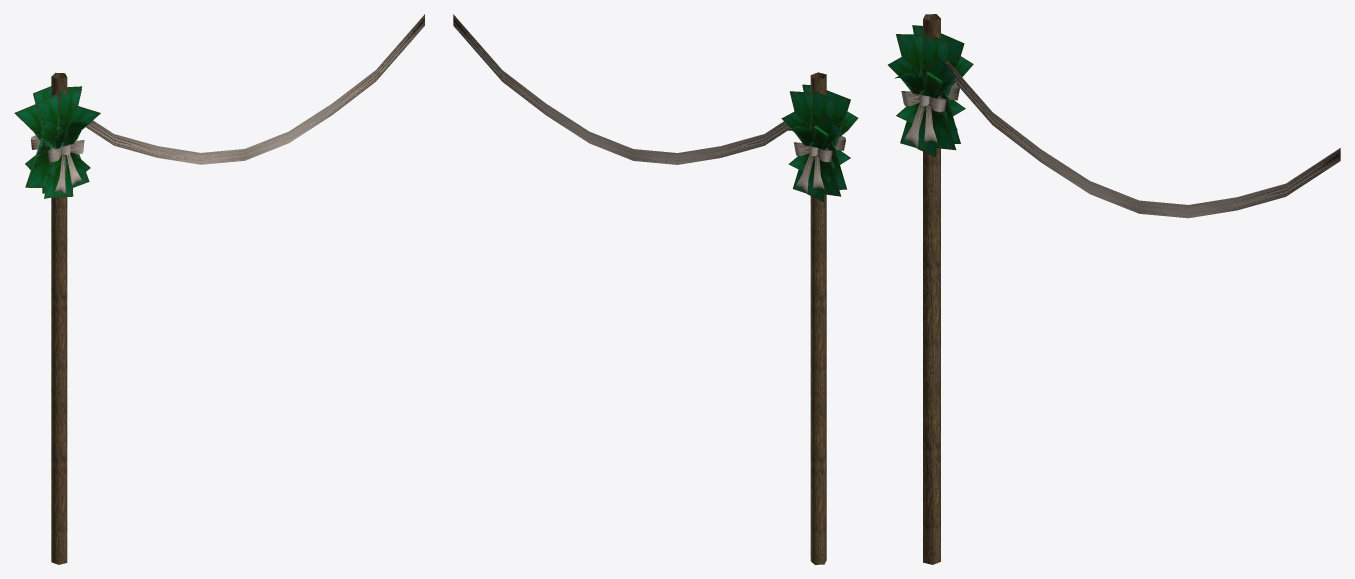
The model's file is pir_m_prp_hol_decopost_ribbon_winter09.fbx.
3 renders of one model, left to right at view 1: azimuth 30°, elevation 25°; view 2: azimuth 150°, elevation 25°; view 3: azimuth 330°, elevation 25°, orthographic. The views are drawn at different scales.
Visible parts, largest first — view 1: Post1, decoRibbon_winter08, leaf_11.001, leaf_03, leaf_02; view 2: Post1, decoRibbon_winter08, leaf_03.001, leaf_02.001, leaf_02; view 3: Post1, decoRibbon_winter08, leaf_03, leaf_02.
Part boxes in pixels (x1,y1,x2,y2): Post1: [51, 72, 67, 564]; decoRibbon_winter08: [86, 14, 424, 164]; leaf_11.001: [25, 137, 50, 187]; leaf_03: [57, 89, 81, 133]; leaf_02: [34, 94, 57, 148]; Post1: [810, 72, 826, 564]; decoRibbon_winter08: [453, 14, 790, 164]; leaf_03.001: [809, 90, 836, 135]; leaf_02.001: [789, 91, 813, 128]; leaf_02: [826, 90, 850, 146]; Post1: [923, 14, 940, 564]; decoRibbon_winter08: [945, 60, 1340, 218]; leaf_03: [919, 32, 950, 82]; leaf_02: [896, 34, 922, 91].
Bounding box in the file's own units: 902 × 1050 × 123.
Materials: 2 (2 with a texture image).
